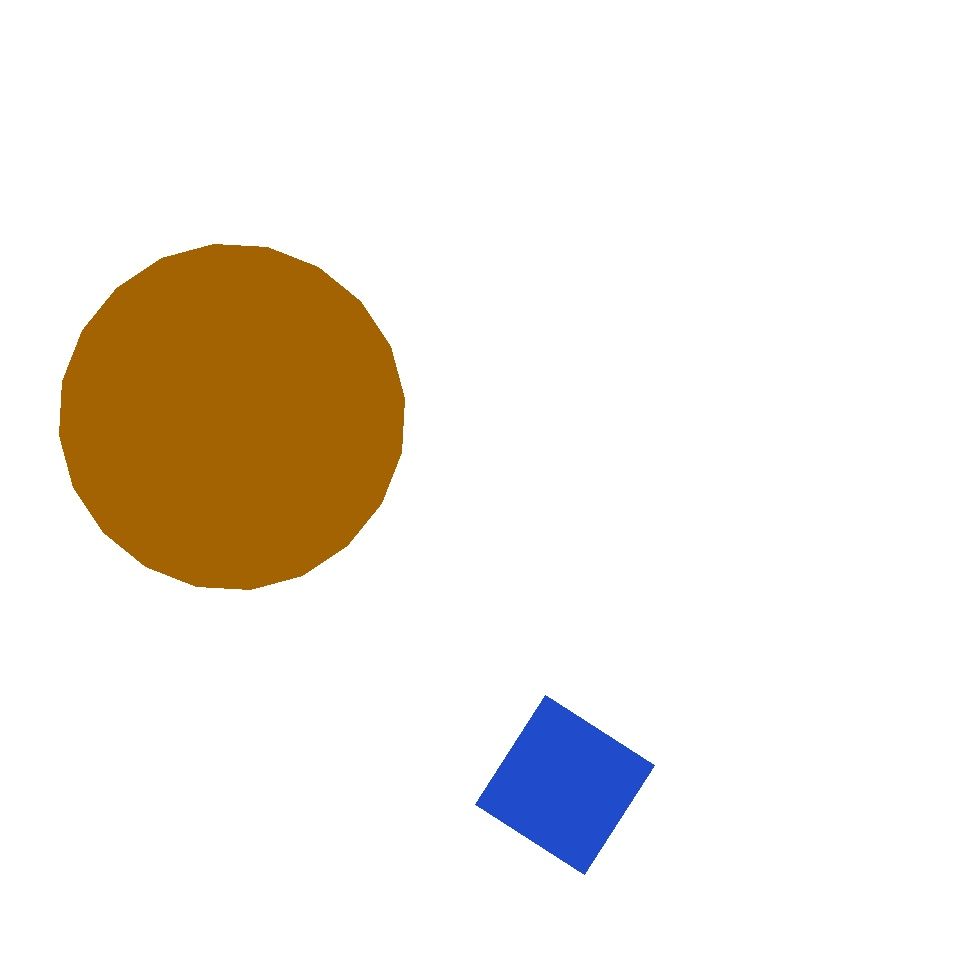circle: (548, 449, 868, 745)
square: (312, 312, 659, 659), (475, 696, 654, 875), (411, 138, 568, 294)
triangle: (60, 244, 404, 590), (241, 281, 356, 396)
